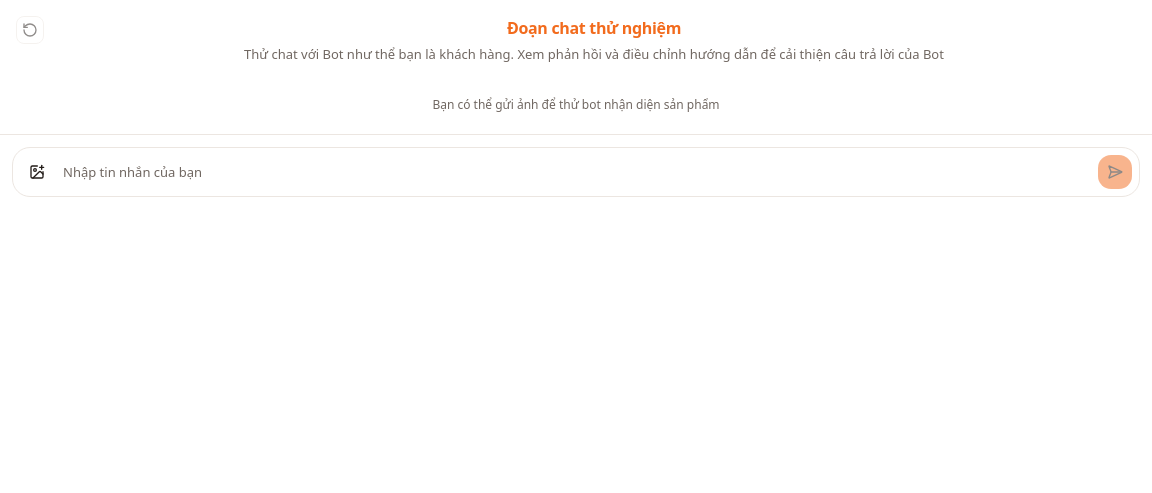
Test case: TestChat quick replies › keeps pills only on the newest bot message
Type "chot don" into the text box labelled "Nhập tin nhắn của bạn" at (576, 172), box [63,154,1089,190]
Then press Enter
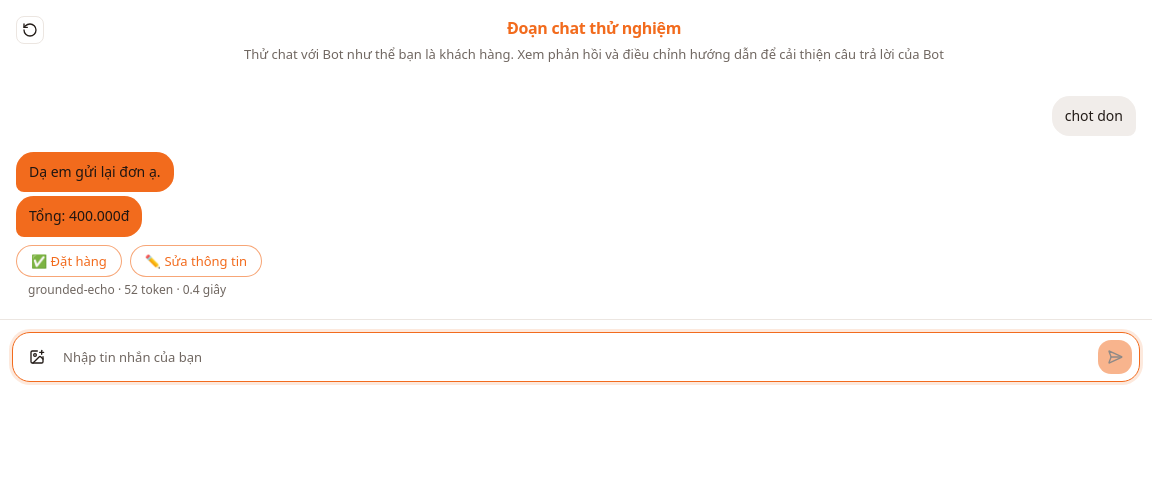
Expected: the button "✅ Đặt hàng" is shown, [16,245,122,277]
Type "doi dia chi" into the text box labelled "Nhập tin nhắn của bạn" at (576, 357), box [63,339,1089,375]
Then press Enter
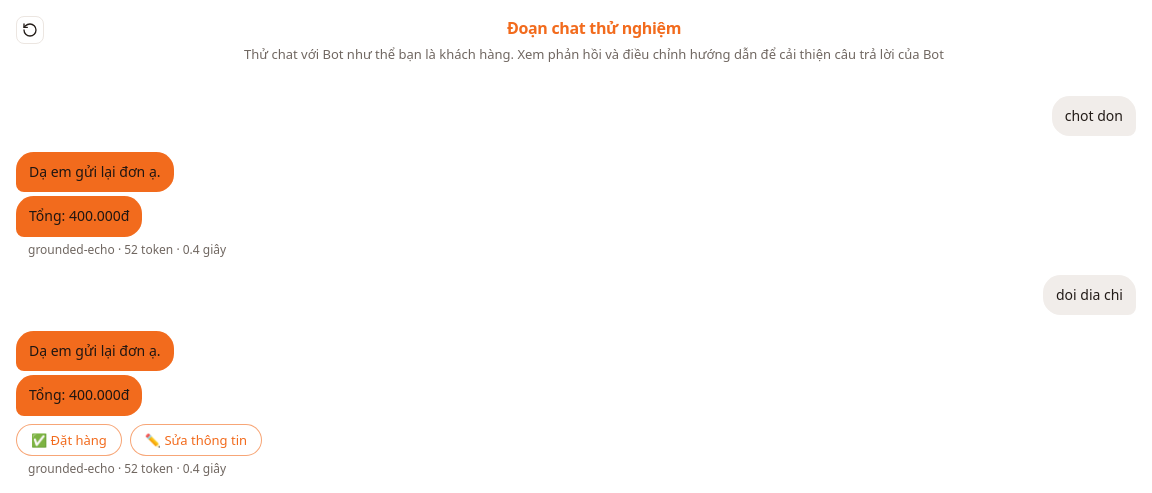
Expected: the number of buttons "✅ Đặt hàng" is 1, [16,424,122,456]
Expected: the number of buttons "Tổng: 400.000đ" is 2, [16,197,142,237]; [16,376,142,416]
